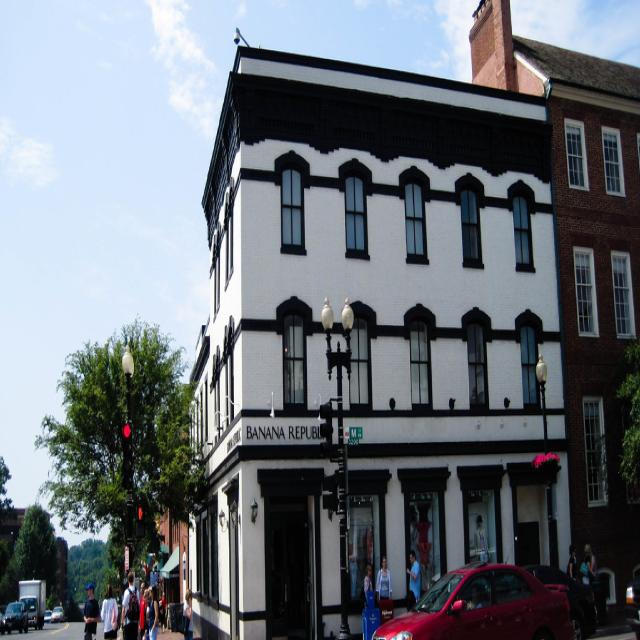car: (3, 600, 24, 629)
